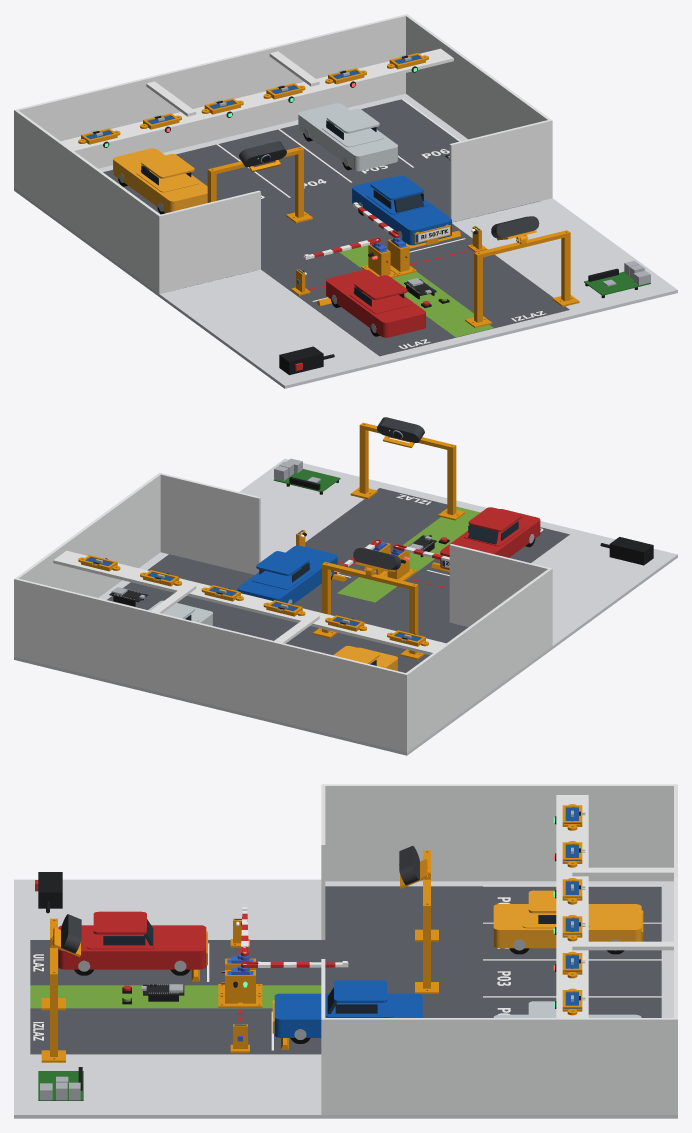
Rendered from sklop_makete.glb.
The picture shows the model from 3 angles, top to bottom: view 1: azimuth 30°, elevation 25°; view 2: azimuth 150°, elevation 25°; view 3: azimuth 270°, elevation 25°; orthographic projection. The views are drawn at different scales.
Parts seen in each view (by area): view 1: forex, asfalt, baza, pla, auto_srebrni, auto_crveni, auto_zuti, auto_plavi, zelena, bijela, crna, tamno_siva (+5 smaller); view 2: forex, asfalt, baza, pla, auto_plavi, auto_crveni, zelena, crna, tamno_siva, srebrna, staklo, auto_zuti (+4 smaller); view 3: forex, asfalt, baza, pla, auto_crveni, auto_zuti, auto_plavi, zelena, bijela, srebrna, crna, tamno_siva (+5 smaller).
Boxes of the visible parts, box(x1,y1,x2,y2) form: forex: box(14, 14, 552, 293); asfalt: box(103, 99, 569, 356); baza: box(14, 93, 677, 388); pla: box(78, 53, 579, 327); auto_srebrni: box(298, 103, 397, 171); auto_crveni: box(326, 269, 425, 337); auto_zuti: box(113, 148, 207, 212); auto_plavi: box(352, 175, 451, 245); zelena: box(339, 245, 493, 337); bijela: box(216, 99, 545, 348); crna: box(93, 55, 637, 375); tamno_siva: box(239, 141, 539, 238); forex: box(14, 472, 552, 752); asfalt: box(107, 488, 569, 672); baza: box(14, 458, 677, 755); pla: box(78, 422, 465, 659); auto_plavi: box(237, 545, 337, 604); auto_crveni: box(440, 507, 540, 569); zelena: box(337, 506, 480, 602); crna: box(93, 477, 653, 639); tamno_siva: box(353, 417, 424, 569); srebrna: box(92, 430, 534, 640); staklo: box(185, 431, 518, 665); auto_zuti: box(333, 645, 397, 670); forex: box(321, 784, 677, 1114); asfalt: box(30, 886, 661, 1054); baza: box(14, 879, 677, 1118); pla: box(41, 804, 643, 1062); auto_crveni: box(58, 911, 206, 969); auto_zuti: box(493, 890, 641, 948); auto_plavi: box(274, 980, 422, 1037); zelena: box(30, 985, 321, 1008); bijela: box(33, 885, 661, 1050); srebrna: box(40, 810, 619, 1100); crna: box(38, 811, 580, 1090); tamno_siva: box(61, 846, 419, 953).
Size of the model in its own units: 0.688 by 0.1518 by 0.821.
